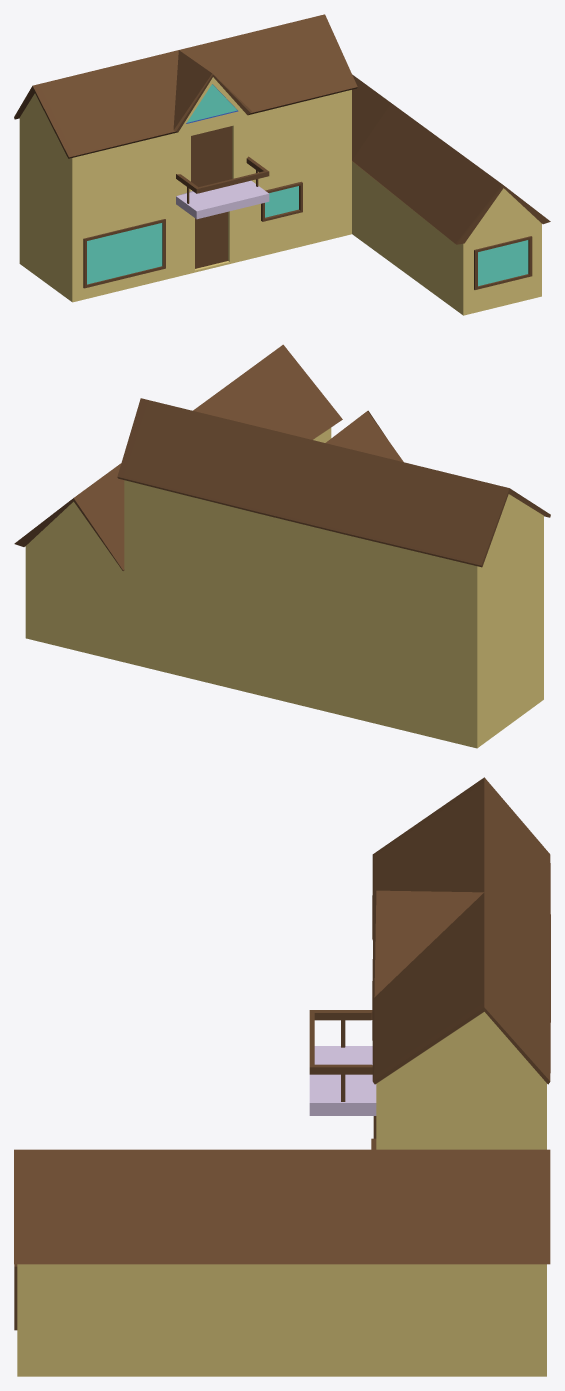
File: casa.fbx
The picture shows the model from 3 angles, top to bottom: view 1: azimuth 30°, elevation 25°; view 2: azimuth 150°, elevation 25°; view 3: azimuth 270°, elevation 25°; orthographic projection. The views are drawn at different scales.
Parts seen in each view (by area): view 1: Cube; view 2: Cube; view 3: Cube.
Boxes of the visible parts, x1=… form: Cube: x1=14, y1=14, x2=550, y2=315; Cube: x1=14, y1=344, x2=550, y2=748; Cube: x1=14, y1=777, x2=550, y2=1376.
Size of the model in its own units: 1503 by 752 by 1164.
1 material, 1 textured.
